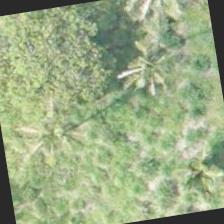Kelapa_Sawit: (101, 16, 204, 119)
